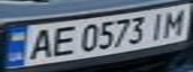0: (75, 20, 100, 53)
3: (127, 14, 151, 45)
5: (97, 19, 118, 51)
7: (112, 16, 133, 47)
A: (21, 26, 57, 61)
E: (45, 23, 78, 57)
I: (145, 9, 172, 39)
M: (160, 7, 190, 38)
